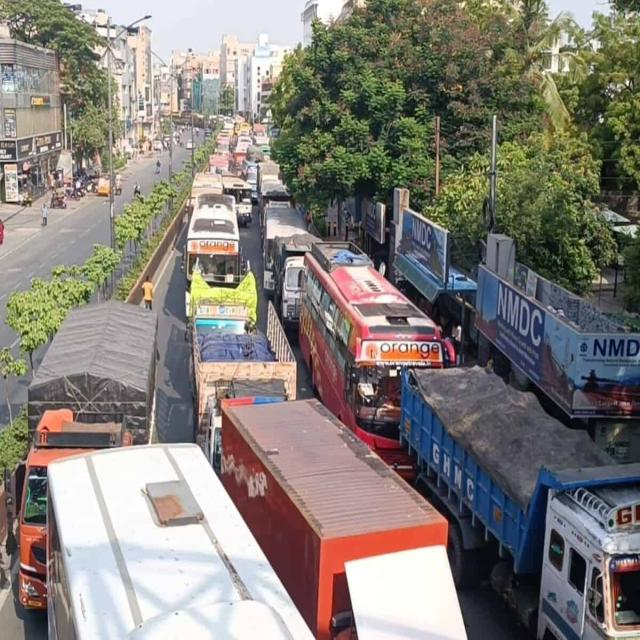bus: (299, 243, 446, 453), (185, 207, 241, 284), (264, 202, 308, 290), (223, 177, 251, 226)
truck: (400, 367, 640, 639), (221, 400, 466, 638), (6, 302, 156, 609), (190, 273, 296, 467), (274, 233, 319, 327)
